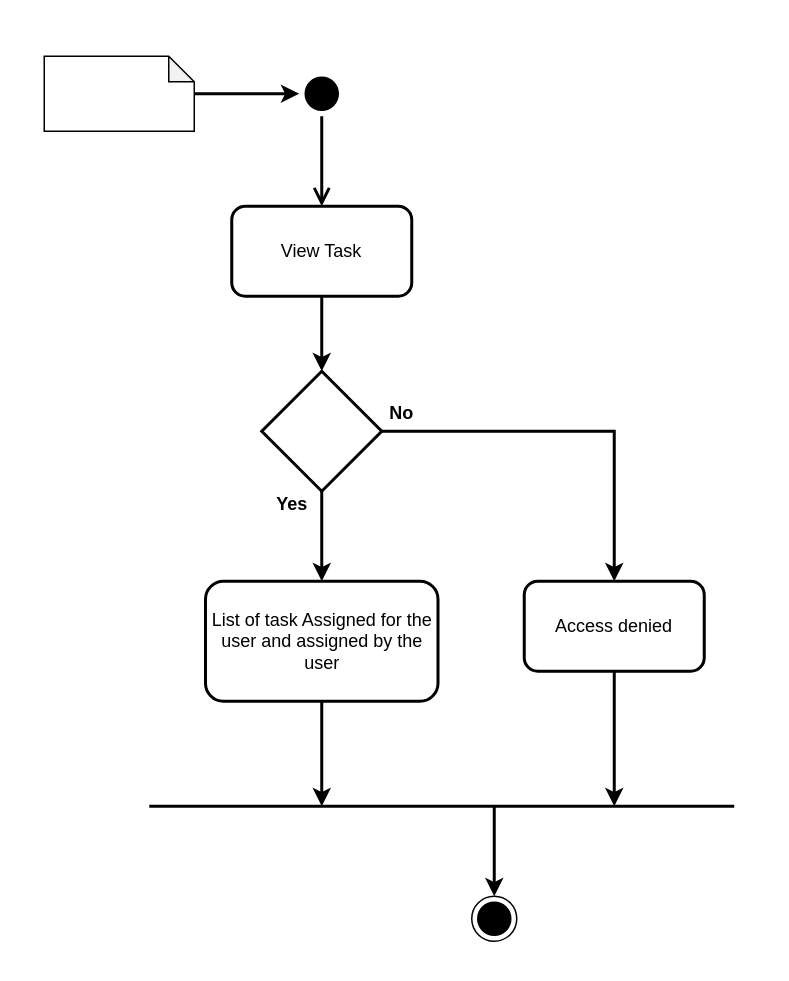
Image size: 789x981. Some labels were removed from this diagram. Each missing label, with the centre of its shape:
Authorized: (321,430)
User is logged in: (118,93)
